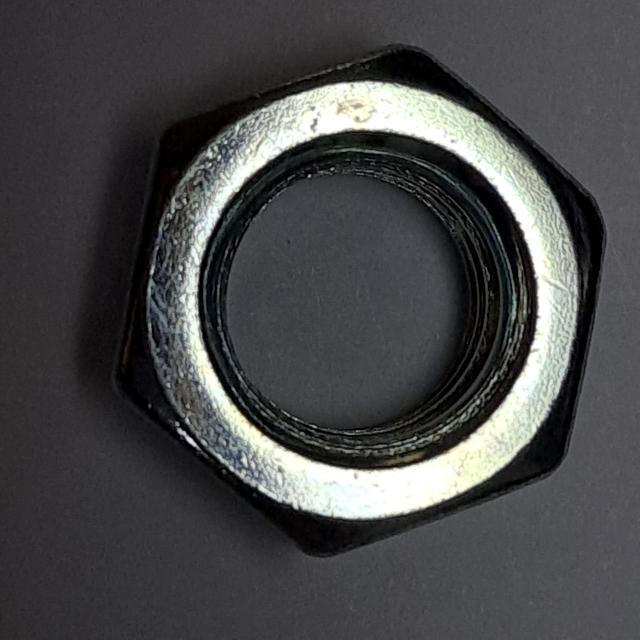Excellent: (98, 38, 617, 565)
